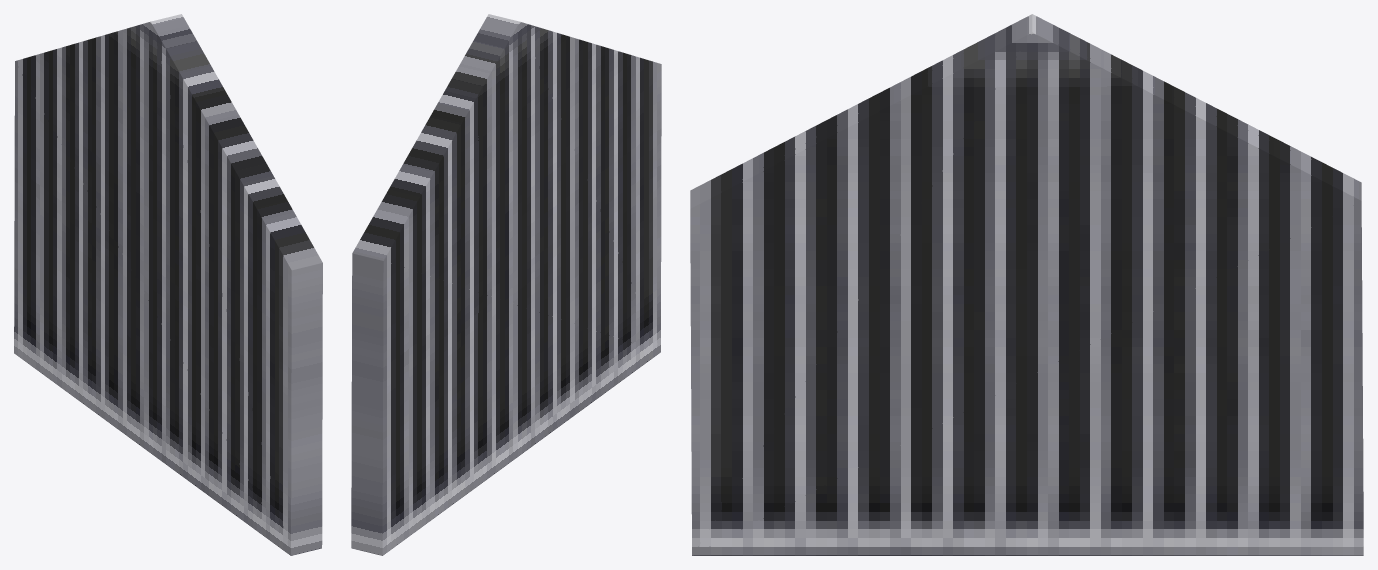
The model's file is DoorGrill3.glb.
3 views of the same model, side by side, from view 1: azimuth 30°, elevation 25°; view 2: azimuth 150°, elevation 25°; view 3: azimuth 270°, elevation 25° (orthographic). The views are drawn at different scales.
Parts seen in each view (by area): view 1: DoorGrill3; view 2: DoorGrill3; view 3: DoorGrill3.
Boxes of the visible parts, <box> form: DoorGrill3: <box>14,14,322,555</box>; DoorGrill3: <box>351,14,661,555</box>; DoorGrill3: <box>690,14,1363,555</box>.
Size of the model in its own units: 39.37 by 521 by 608.
Materials: 1 (1 with a texture image).
